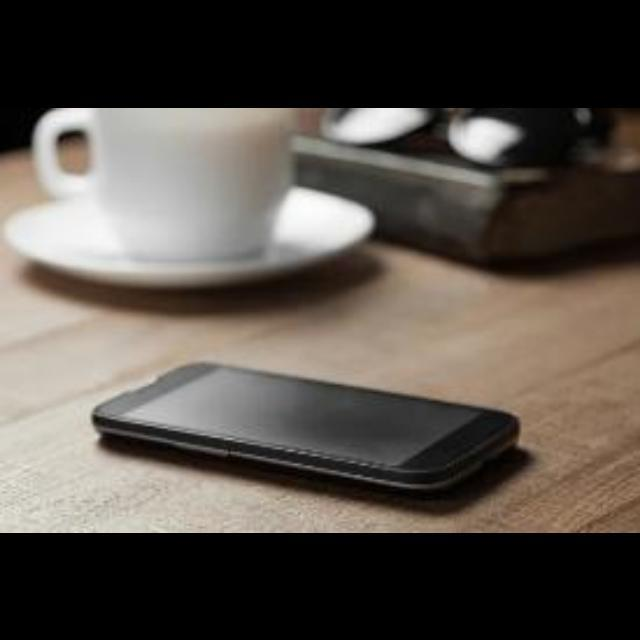PhoneUse: (84, 350, 536, 502)
